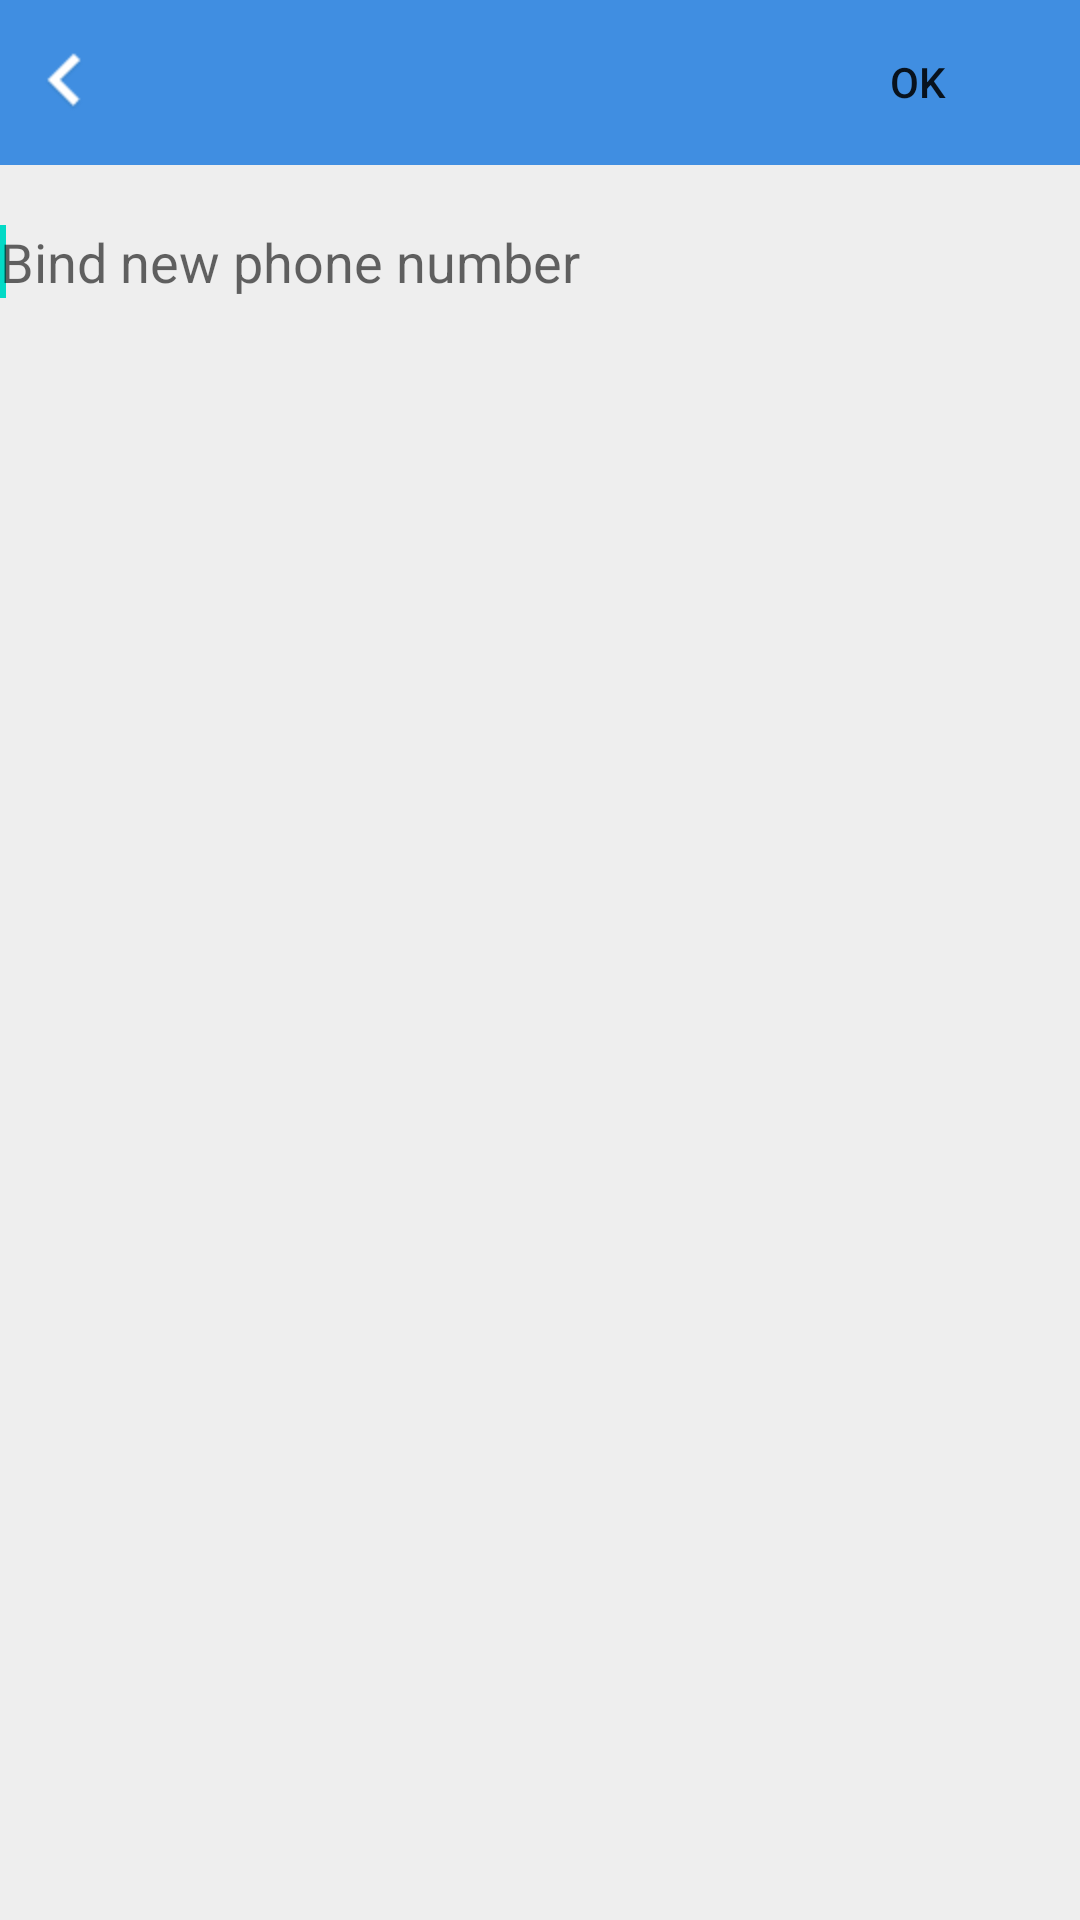

Screen size 1080x1920. Icon name, then its box in pixels as (x1, y1, x2, y2):
back: (47, 53, 81, 106)
